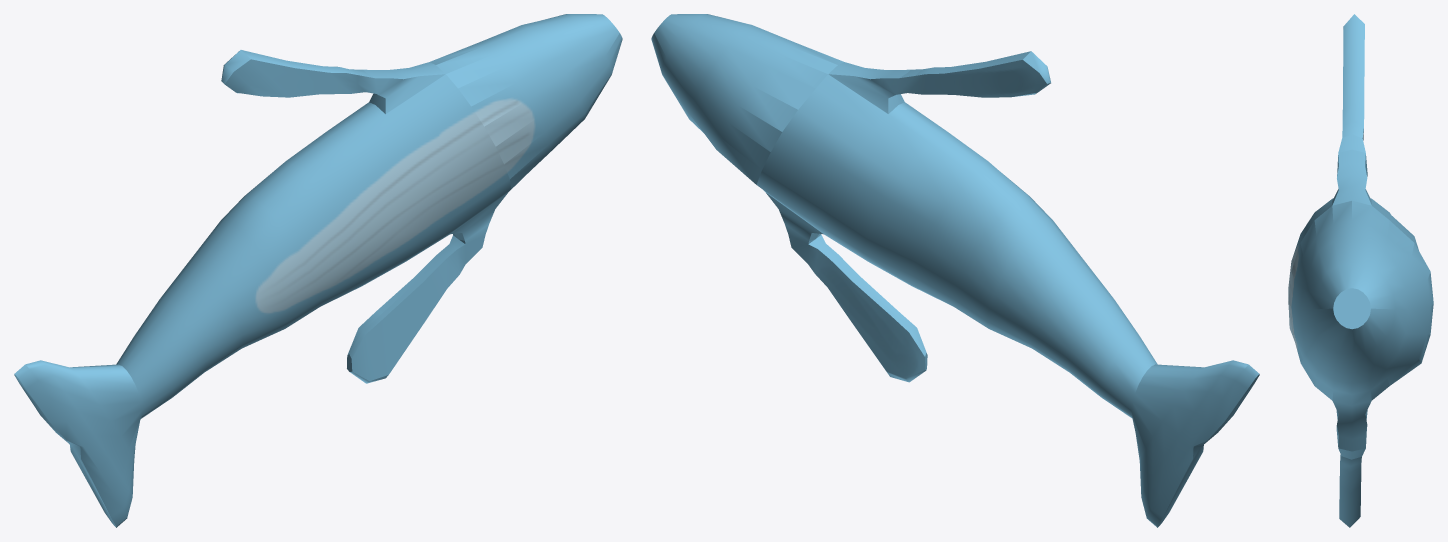
Rendered from whale.fbx.
3 views of the same model, side by side, from view 1: azimuth 30°, elevation 25°; view 2: azimuth 150°, elevation 25°; view 3: azimuth 270°, elevation 25° (orthographic). The views are drawn at different scales.
Visible parts, largest first — view 1: polySurface2; view 2: polySurface2; view 3: polySurface2.
Boxes of the visible parts, x1,y1,x2,y2 form: polySurface2: [14, 14, 622, 527]; polySurface2: [651, 14, 1259, 527]; polySurface2: [1288, 14, 1433, 527].
Bounding box in the file's own units: 13.02 × 9.19 × 2.28.
1 material, 1 textured.
